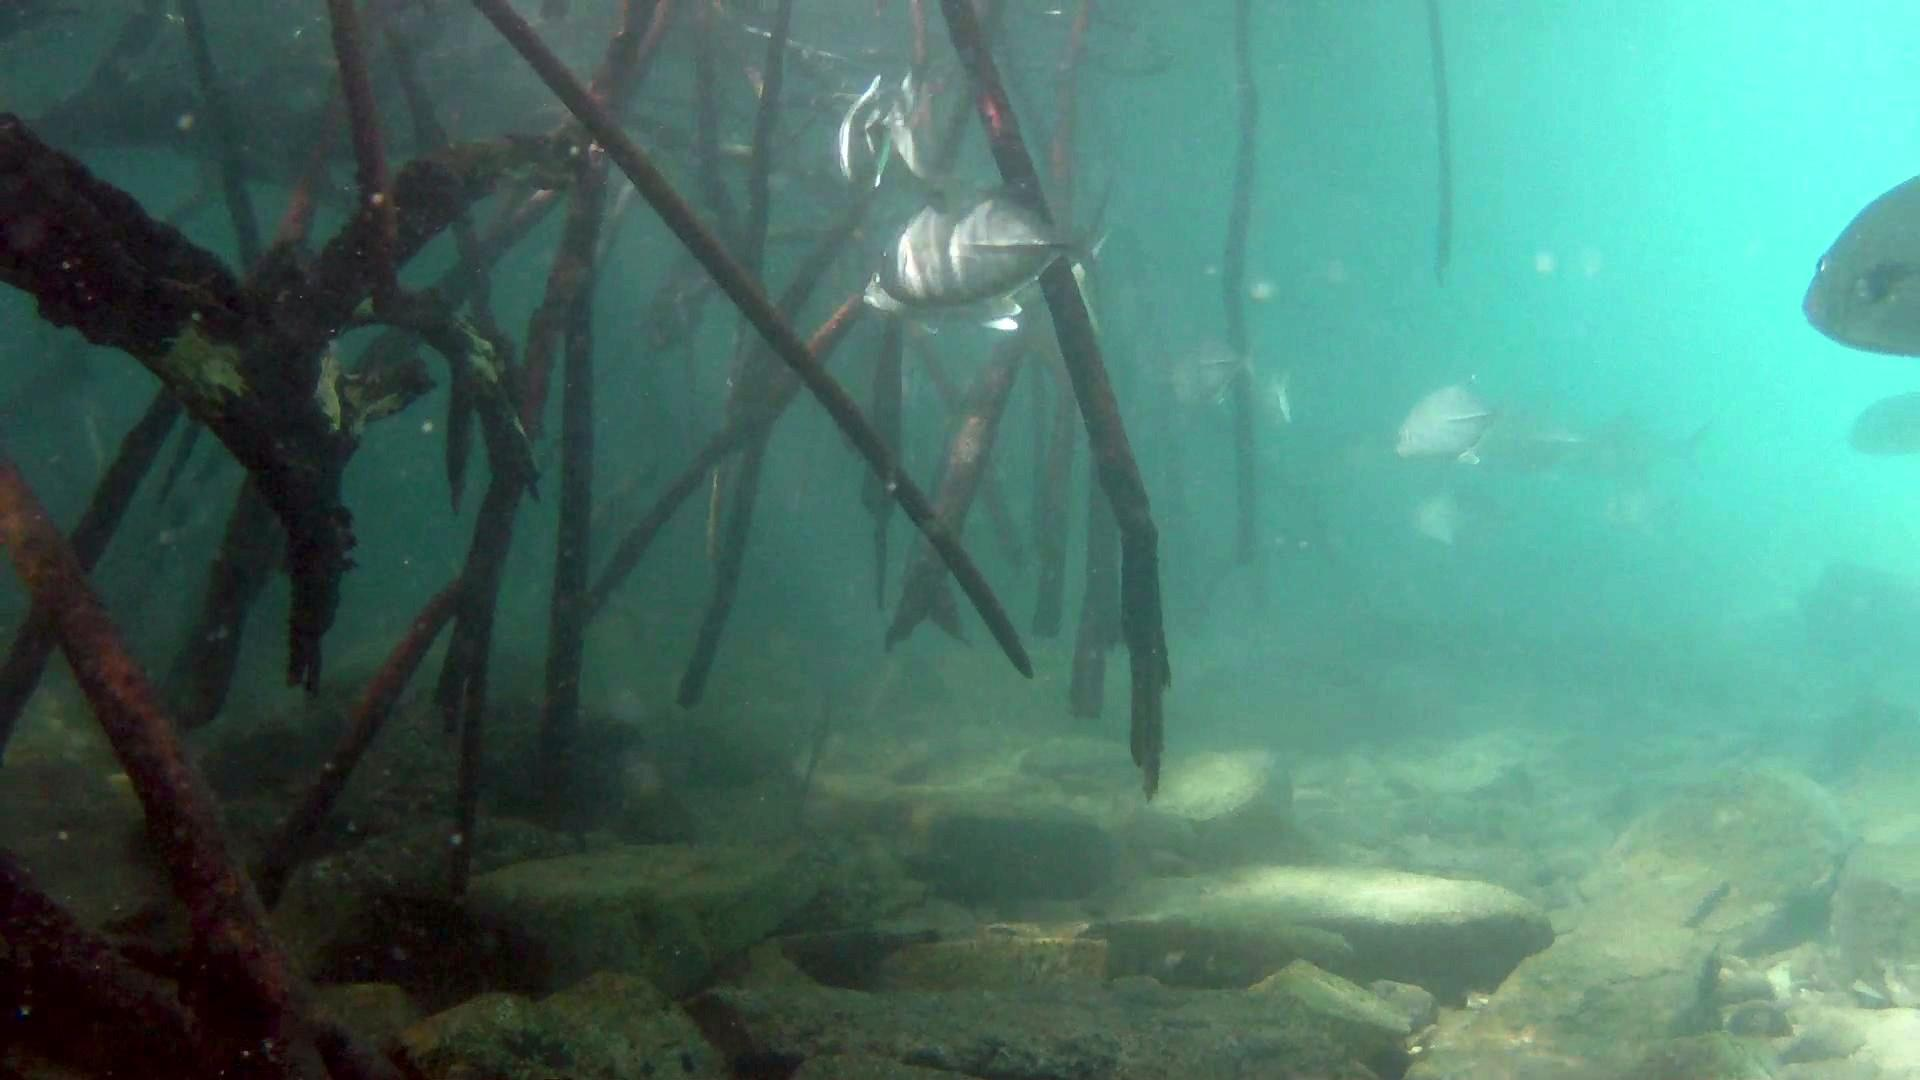caranx: (858, 175, 1120, 313), (1771, 165, 1920, 365)
